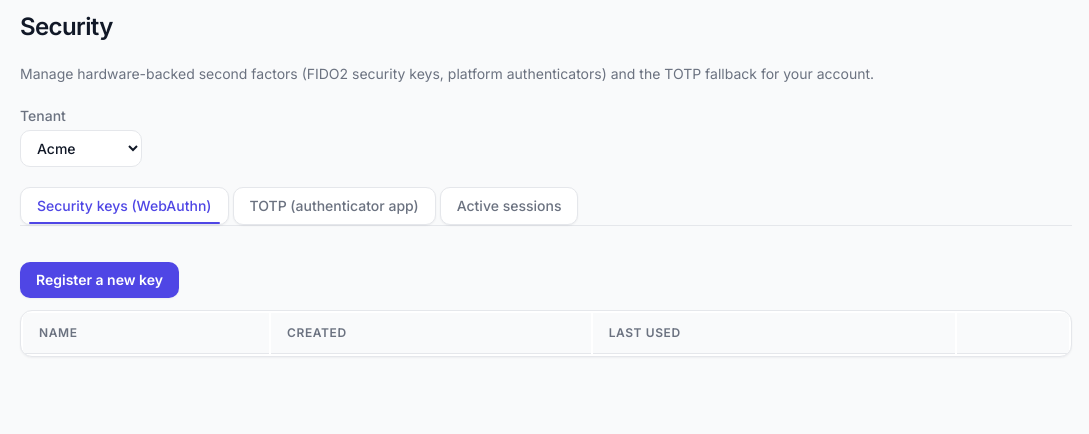
Test: <SecuritySettings /> WebAuthn › issues a registration challenge when adding a key
Select "Acme" in the dropdown labelled "Tenant" at (81, 148), box top-left (20, 130), bottom-right (142, 167)
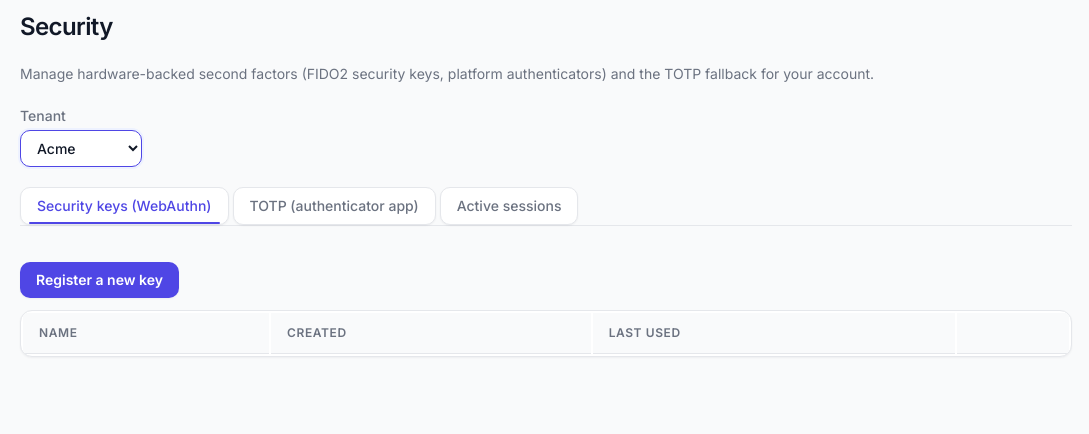
Click the button "Register a new key" at (99, 280), box top-left (20, 262), bottom-right (179, 298)
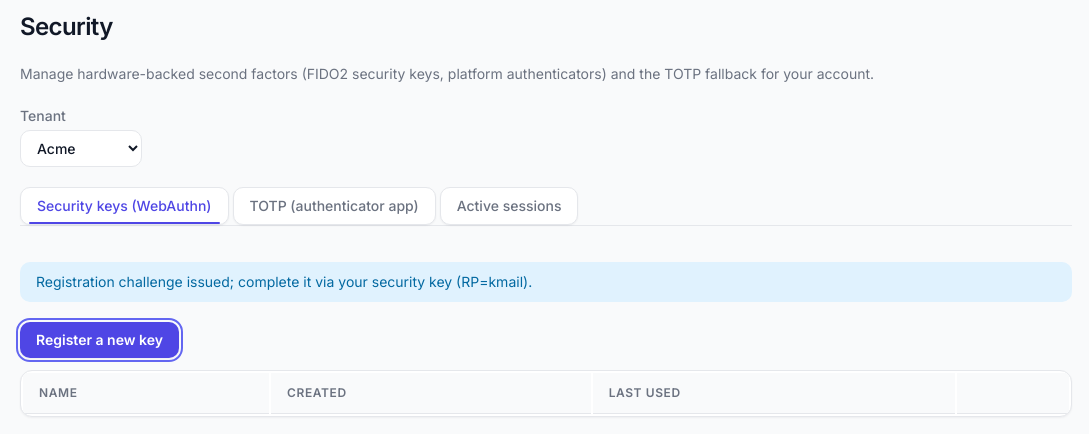
Expected: the text "Registration challenge issued" is shown, top-left (36, 273), bottom-right (532, 290)
